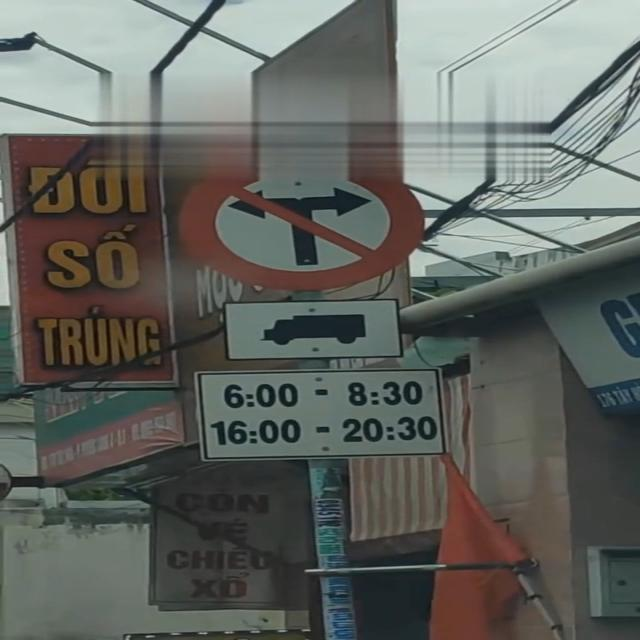137-cam-re-trai-va-re-phai: (172, 167, 427, 290)
